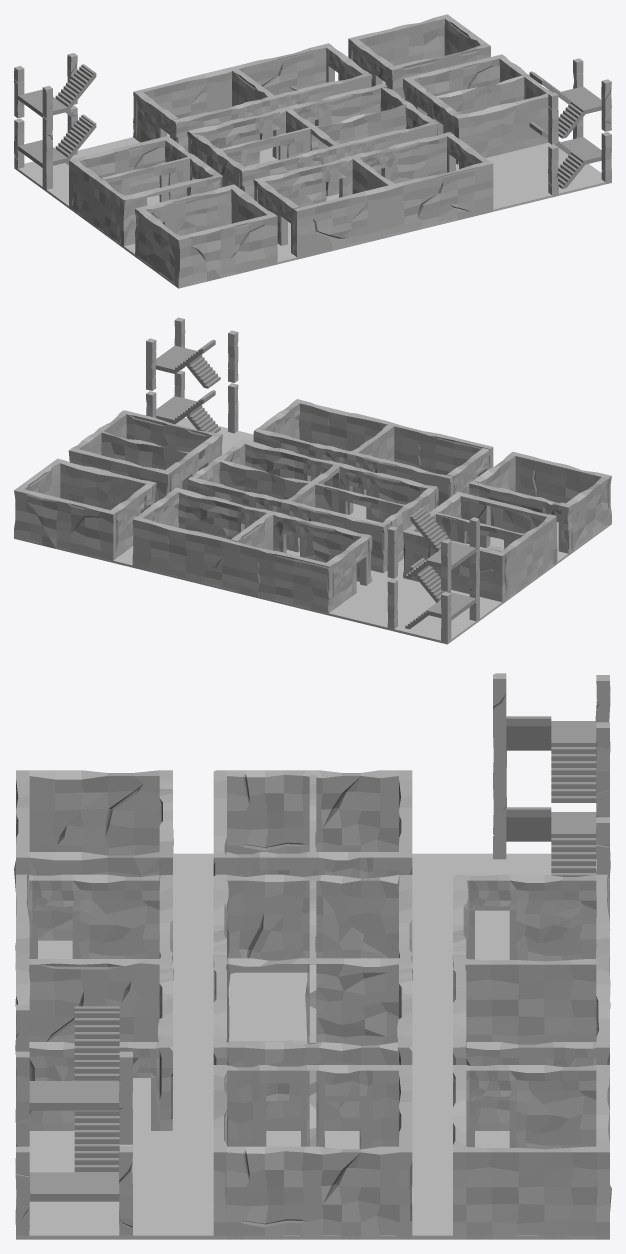
Rendered from Ground Floor.fbx.
3 renders of one model, top to bottom at view 1: azimuth 30°, elevation 25°; view 2: azimuth 150°, elevation 25°; view 3: azimuth 270°, elevation 25°, orthographic. The views are drawn at different scales.
Visible parts, largest first — view 1: Cube.076, Cube.001, Cube.003, Cube.030, Cube.004, Cube.063, Cube.039, Cube.017, Cube.016, Cube.045, Cube.002, Cube.055 (+35 smaller); view 2: Cube.003, Cube.001, Cube.076, Cube.016, Cube.002, Cube.017, Cube.063, Cube.030, Cube.004, Cube.055, Cube.049, Cube.045 (+36 smaller); view 3: Cube.001, Cube.027, Cube.100, Cube.023, Cube.011, Cube.051, Cube.274, Cube.006, Cube.052, Cube.009, Cube.043, Cube.008 (+31 smaller).
Boxes of the visible parts, box(x1,y1,x2,y2) form: Cube.076: box(293, 161, 493, 259); Cube.001: box(14, 80, 606, 287); Cube.003: box(133, 43, 332, 139); Cube.030: box(253, 132, 453, 207); Cube.004: box(174, 213, 277, 288); Cube.063: box(187, 83, 387, 166); Cube.039: box(454, 92, 552, 164); Cube.017: box(238, 121, 438, 198); Cube.016: box(172, 72, 372, 151); Cube.045: box(135, 184, 237, 258); Cube.002: box(348, 14, 450, 65); Cube.055: box(69, 136, 171, 210); Cube.003: box(132, 516, 332, 613); Cube.001: box(25, 418, 611, 644); Cube.076: box(294, 399, 493, 476); Cube.016: box(173, 487, 372, 583); Cube.002: box(14, 488, 116, 560); Cube.017: box(239, 439, 438, 522); Cube.063: box(187, 476, 387, 573); Cube.030: box(253, 428, 453, 506); Cube.004: box(509, 452, 611, 526); Cube.055: box(403, 529, 505, 603); Cube.049: box(54, 458, 156, 513); Cube.045: box(469, 481, 572, 555); Cube.001: box(16, 853, 609, 1239); Cube.027: box(226, 1146, 399, 1239); Cube.100: box(226, 874, 399, 960); Cube.023: box(226, 770, 398, 854); Cube.011: box(466, 1146, 596, 1239); Cube.051: box(466, 959, 596, 1044); Cube.274: box(29, 770, 159, 855); Cube.006: box(227, 1065, 399, 1149); Cube.052: box(466, 874, 596, 961); Cube.009: box(29, 874, 159, 958); Cube.043: box(29, 959, 159, 1043); Cube.008: box(466, 1065, 596, 1149).
Bounding box in the file's own units: 4024 × 913 × 2658.
